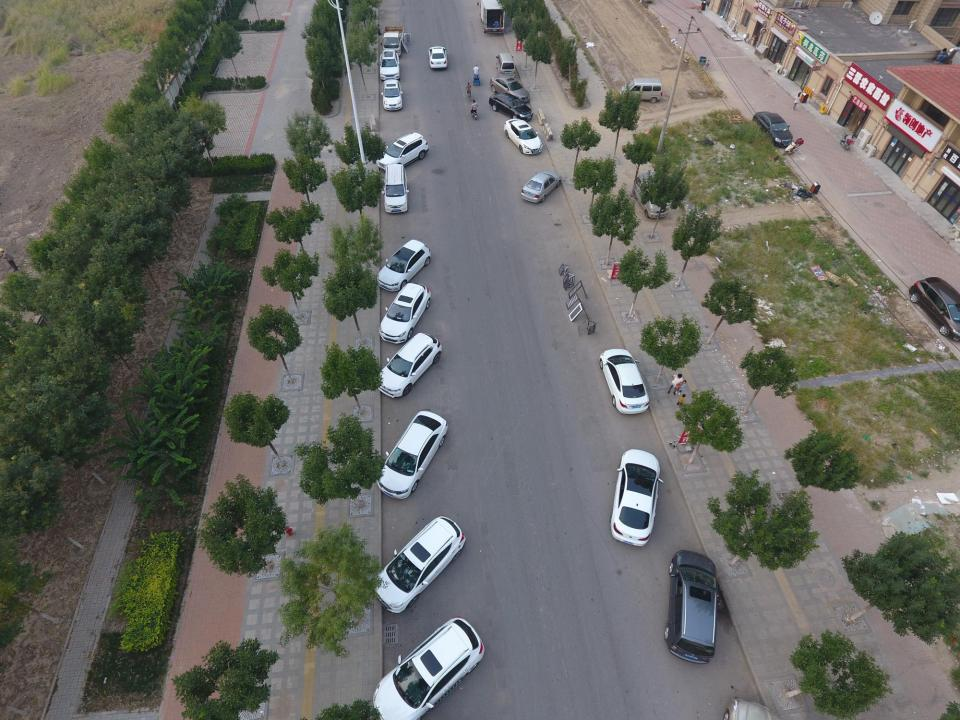car: (368, 617, 484, 720), (372, 516, 466, 612), (377, 410, 447, 500), (665, 551, 719, 666), (610, 448, 662, 550), (373, 332, 443, 399), (907, 276, 960, 352), (377, 283, 431, 345), (600, 348, 650, 414), (376, 240, 432, 292), (376, 130, 428, 175), (504, 117, 544, 156), (752, 111, 794, 148), (521, 170, 561, 204), (382, 165, 409, 215), (488, 93, 533, 122), (489, 77, 531, 104), (381, 79, 404, 112), (379, 48, 400, 82), (428, 45, 448, 70)
truck: (476, 0, 506, 35), (380, 25, 404, 57)
van: (633, 172, 669, 222), (620, 78, 663, 104), (495, 53, 515, 80)
